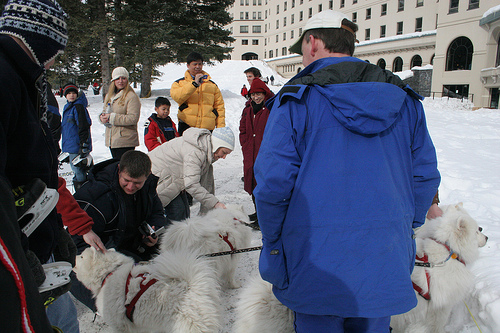without_mask: (116, 162, 151, 197), (212, 137, 234, 166), (110, 72, 131, 91), (186, 56, 205, 76), (154, 98, 172, 119), (249, 88, 268, 107), (244, 66, 262, 85), (64, 87, 80, 104)
